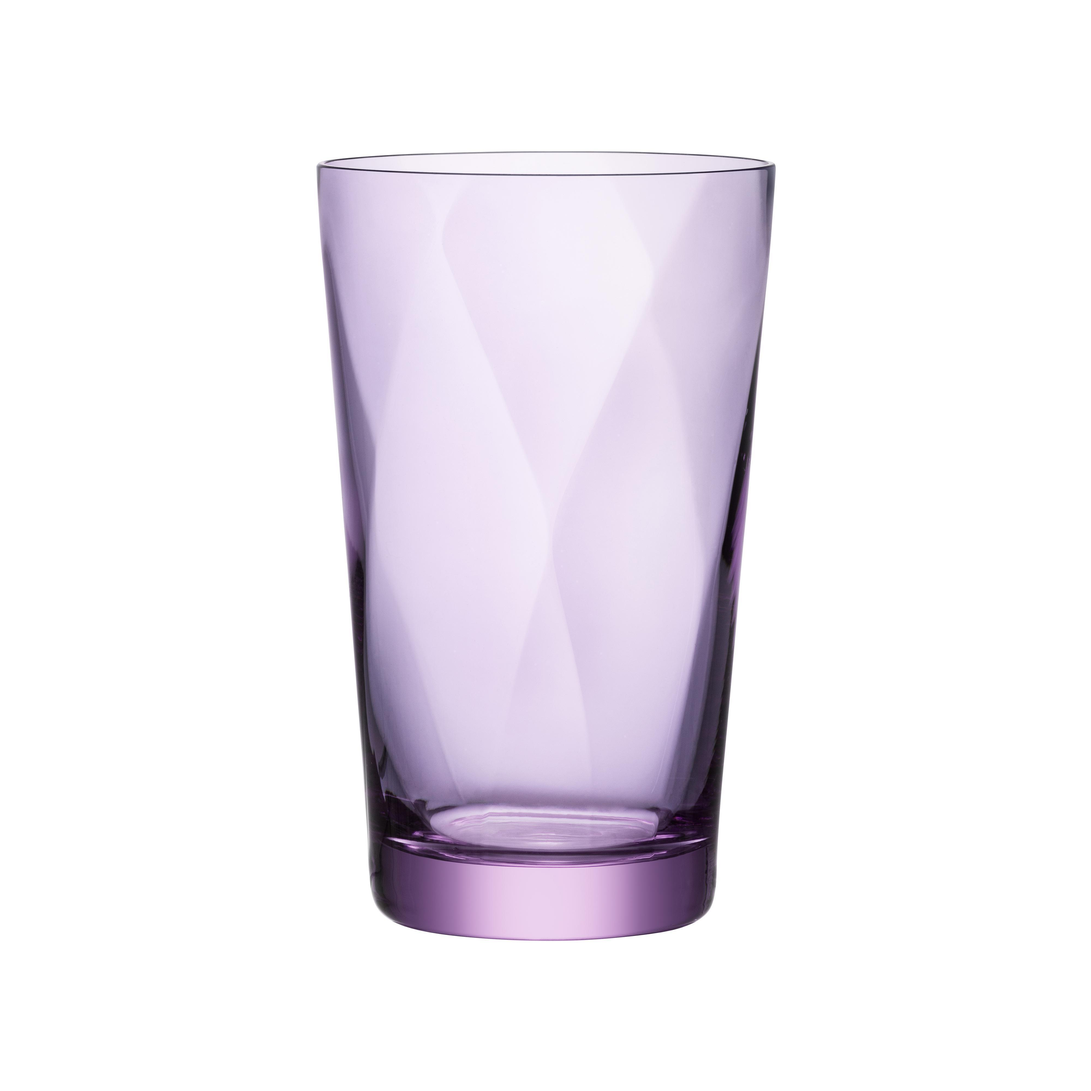glass-normal: (308, 135, 786, 948)
